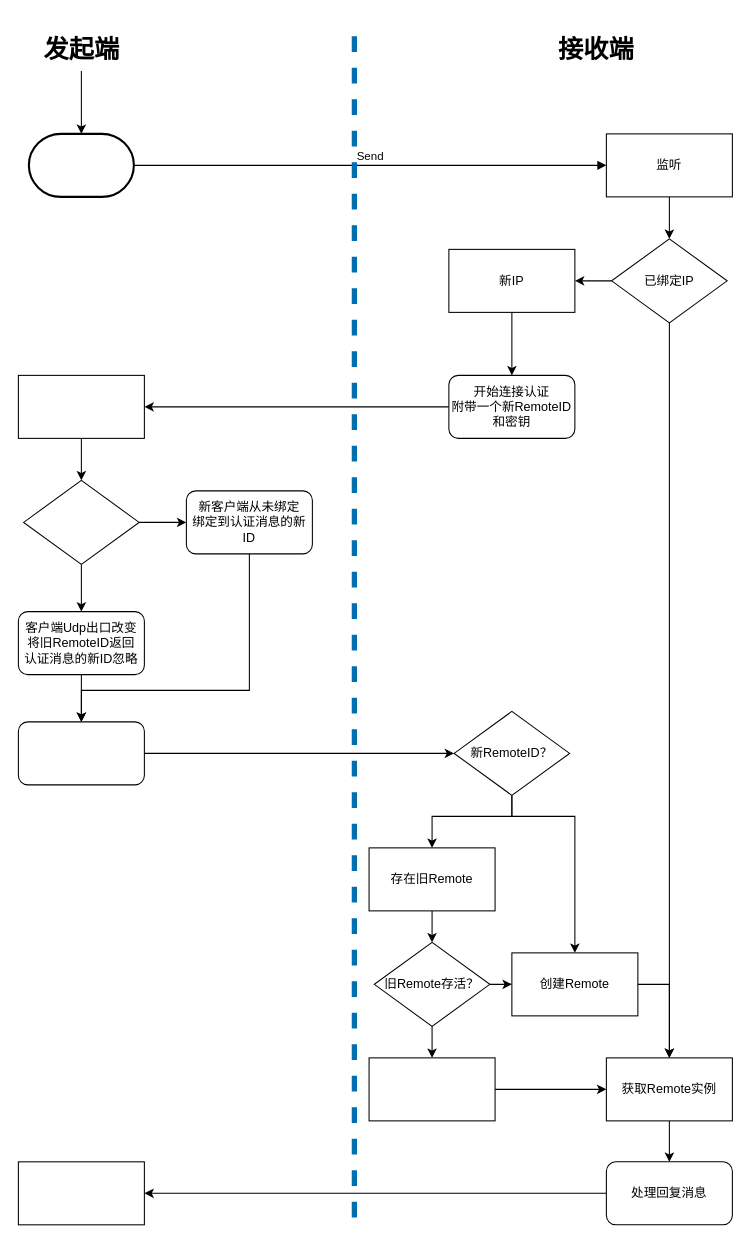
This 751x1243 diagram has some shape labels left out. Here are the shapes that lost their labels. From the top down, the centre of each, then its label:
the point at 80,164: 发送消息
the point at 80,406: 收到认证消息
the point at 81,521: 已绑定服务器Remote？
the point at 80,753: 认证回复消息
the point at 431,1089: 重绑定新IP
the point at 80,1193: 收到接收端回复消息
